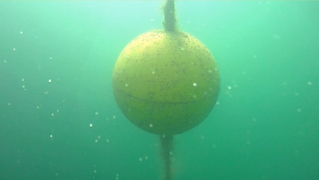buoy: (110, 28, 221, 136)
